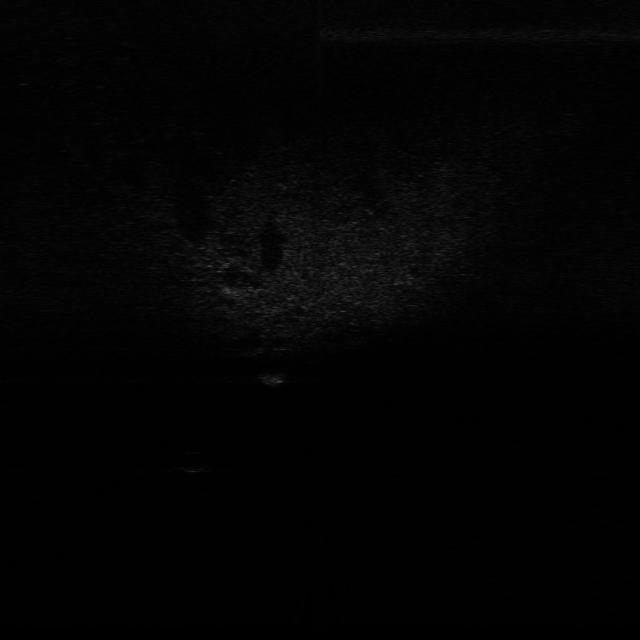ball: (170, 446, 216, 477)
cube: (256, 365, 292, 390)
